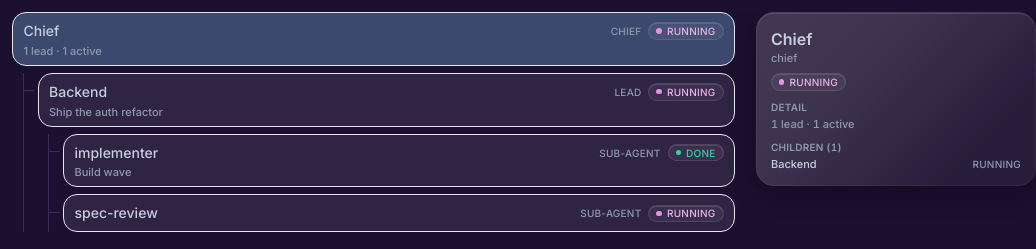
Test: DelegationTree › defaults the inspector to the root, then updates it when a node is selected
Check: the element with test id "delegation-node-detail" shows "Chief", box [771,29,812,49]
Check: the element with test id "delegation-node-detail" does not show "Build wave"
select the leaf sub-agent → inspector reflects it.
Click the button with test id "delegation-tree-node-c1". click: point(116, 152)
box: [63,134,735,187]
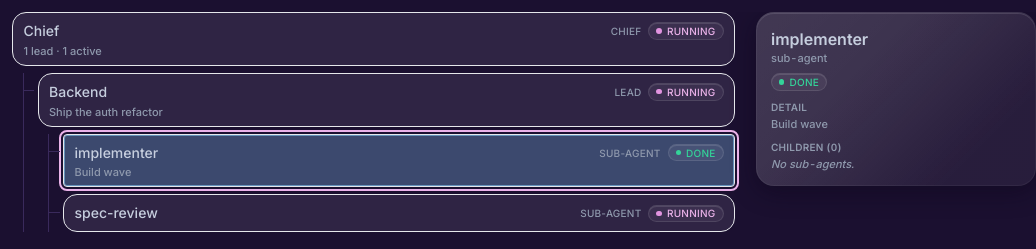
Check: the element with test id "delegation-node-detail" shows "implementer", box [771,29,868,49]
Check: the element with test id "delegation-node-detail" shows "Build wave", box [771,117,828,131]
